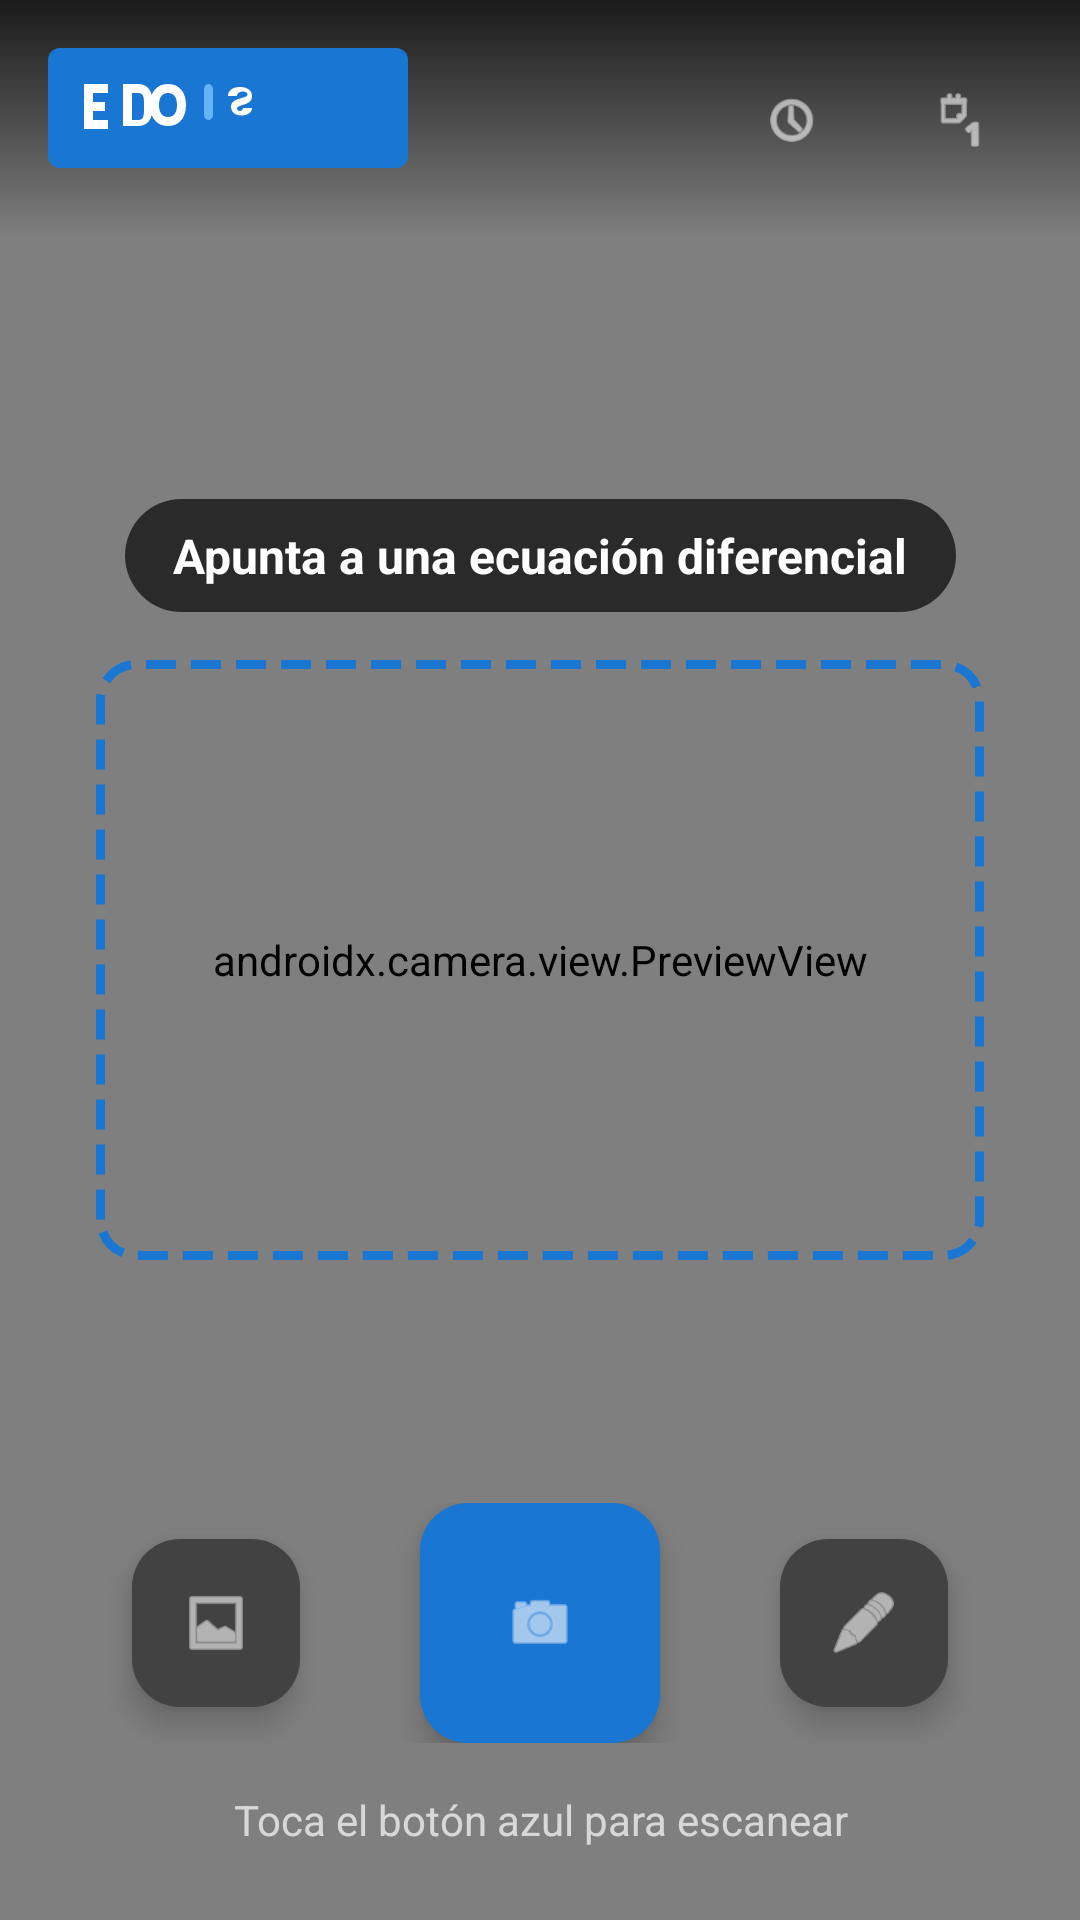

Point at icon controls on the screen. Image size 1080 × 1920, points as (x,y).
Capturar: (540,1623)
Editor manual: (864,1623)
Galería: (216,1623)
